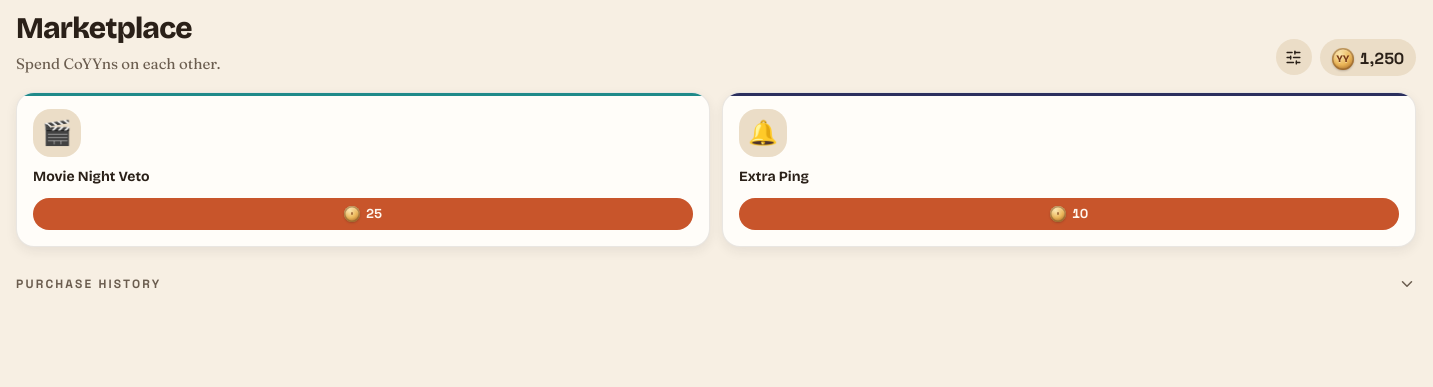
MarketplacePage › renders the history section collapsed and expands the list on toggle
The width and height of the screenshot is (1433, 387).
Click the button with test id "purchase-history-toggle": click(89, 284) x1=16 y1=275 x2=1416 y2=293
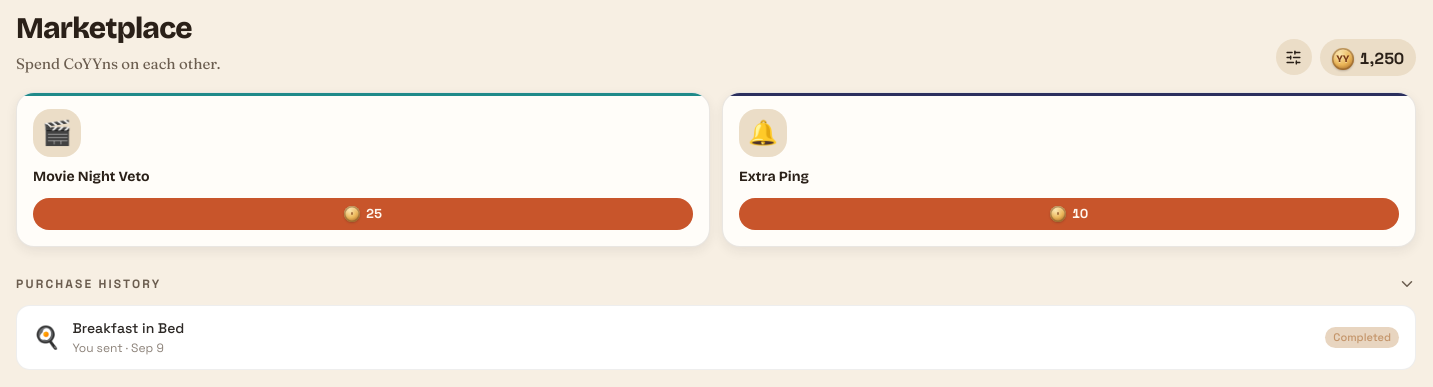
Expected: the element with test id "purchase-history-list" is shown, x1=16 y1=293 x2=1416 y2=370
Expected: the text "Breakfast in Bed" is shown, x1=72 y1=319 x2=184 y2=337
